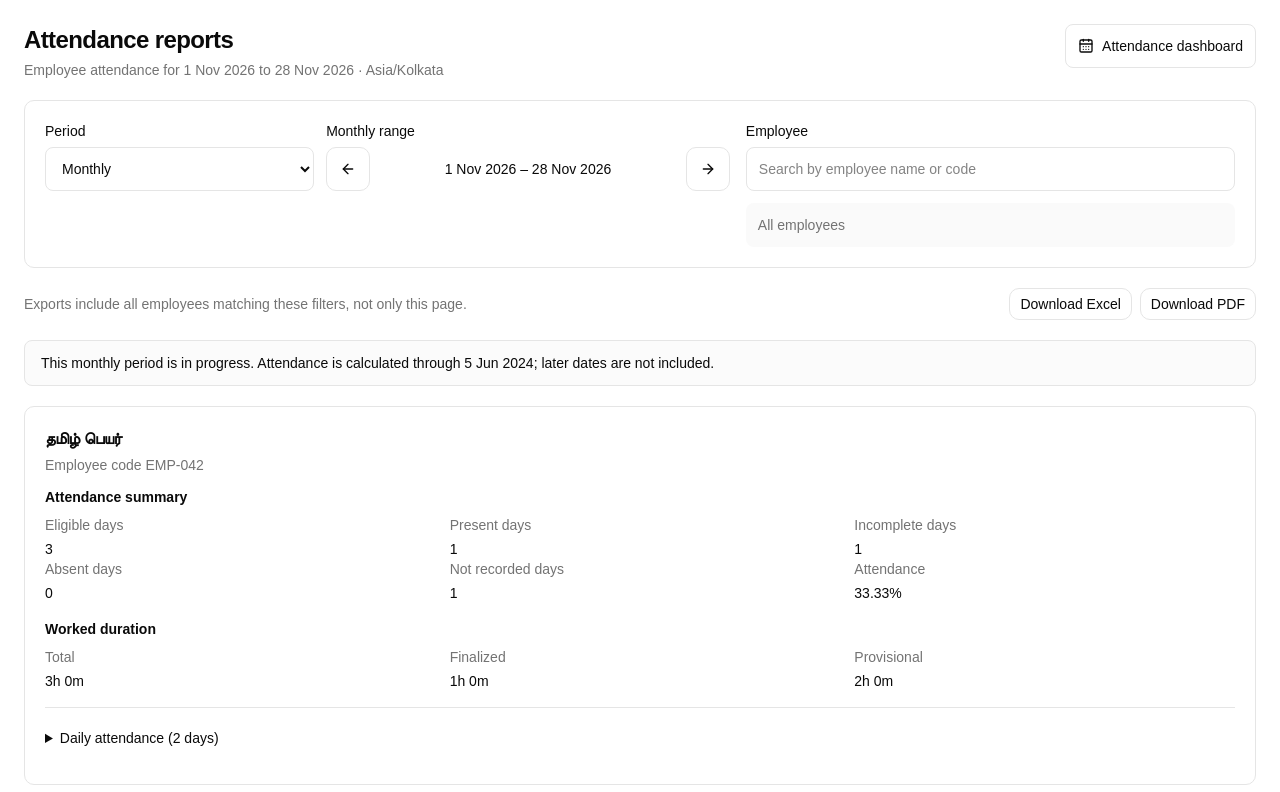
Test: attendance report page › reopens after Escape by click or ArrowDown and keeps search text for selection
This screenshot has width=1280, height=792.
Focus the dropdown named "Search employees" at point(990, 169), box [746,147,1235,191]
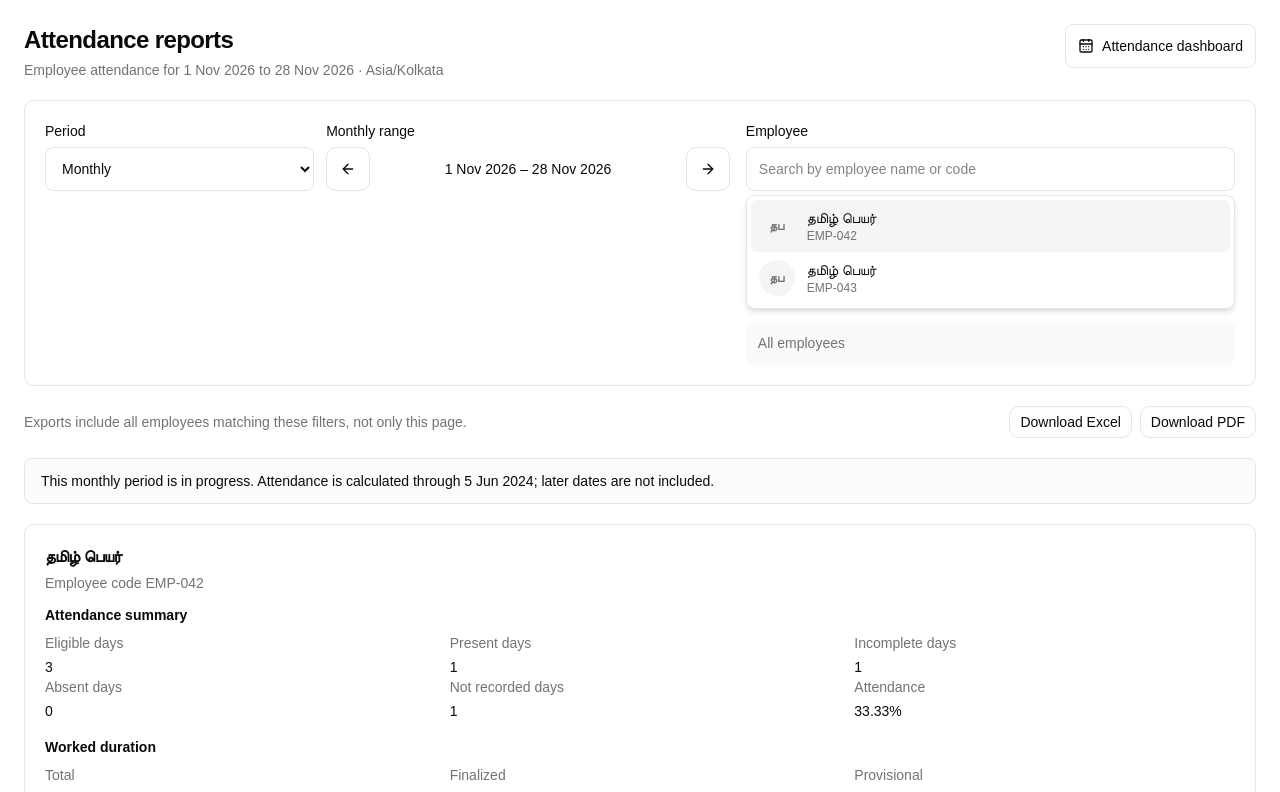
Expected: the number of options is 2, [751,200,1230,252]; [759,260,876,296]
Type "Tamil search" into the dropdown named "Search employees" at point(990, 169), box [746,147,1235,191]
Press Escape in the dropdown named "Search employees", box [746,147,1235,191]
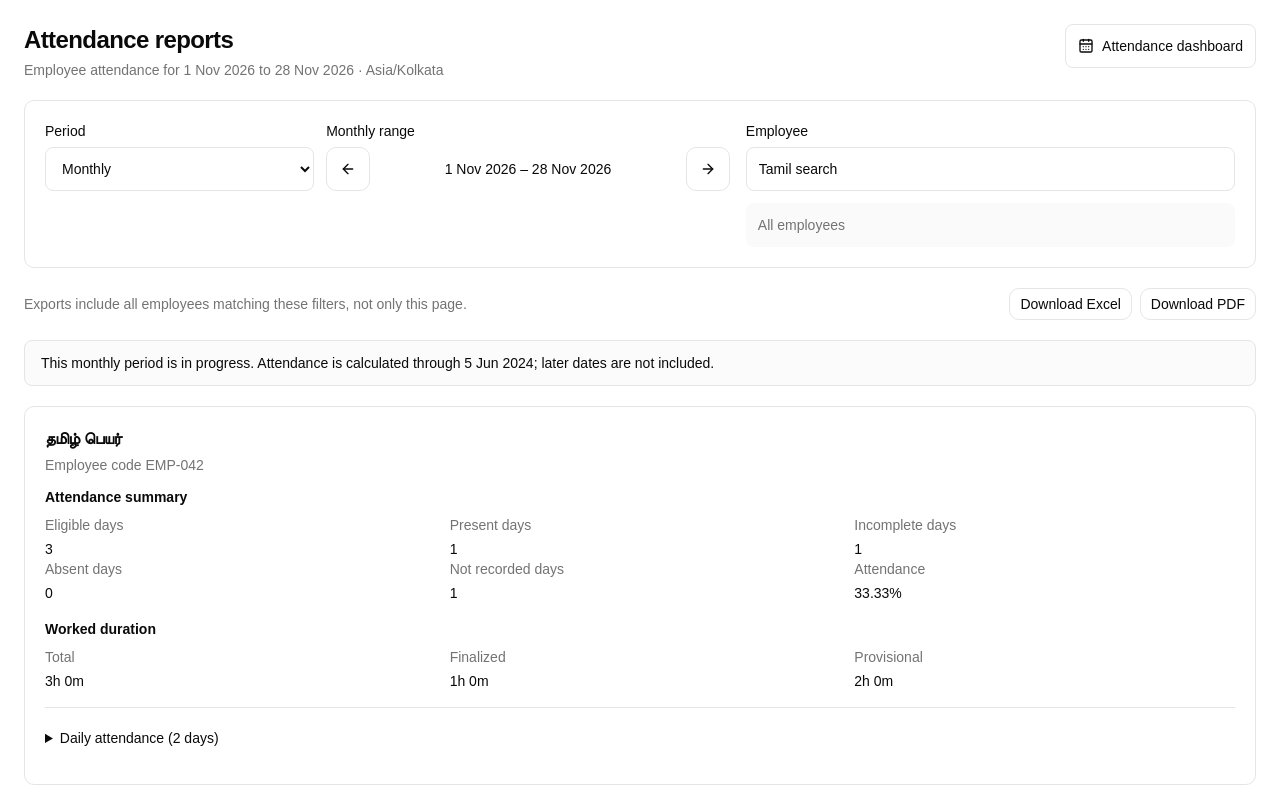
Expected: the list is gone
Click the dropdown named "Search employees" at point(990, 169), box [746,147,1235,191]
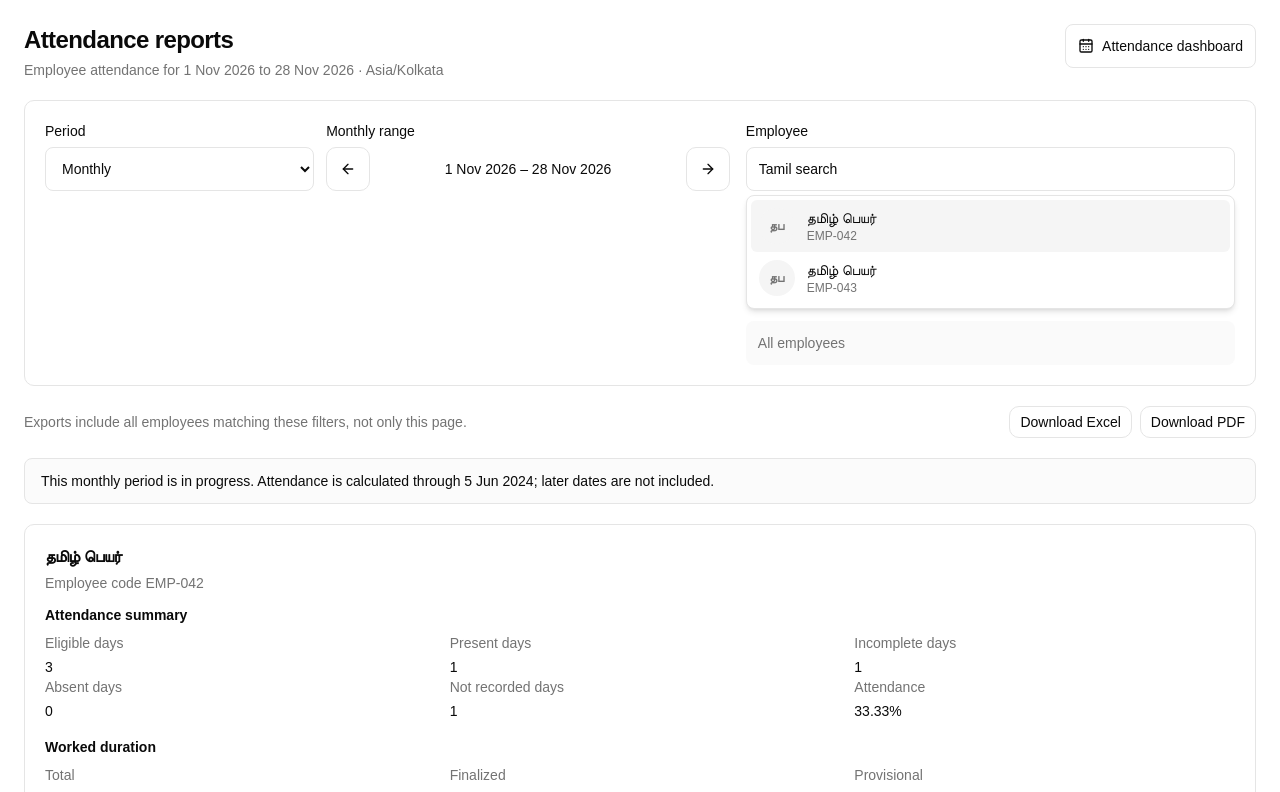
Expected: the list is shown, [747,196,1234,308]
Press Escape in the dropdown named "Search employees", box [746,147,1235,191]
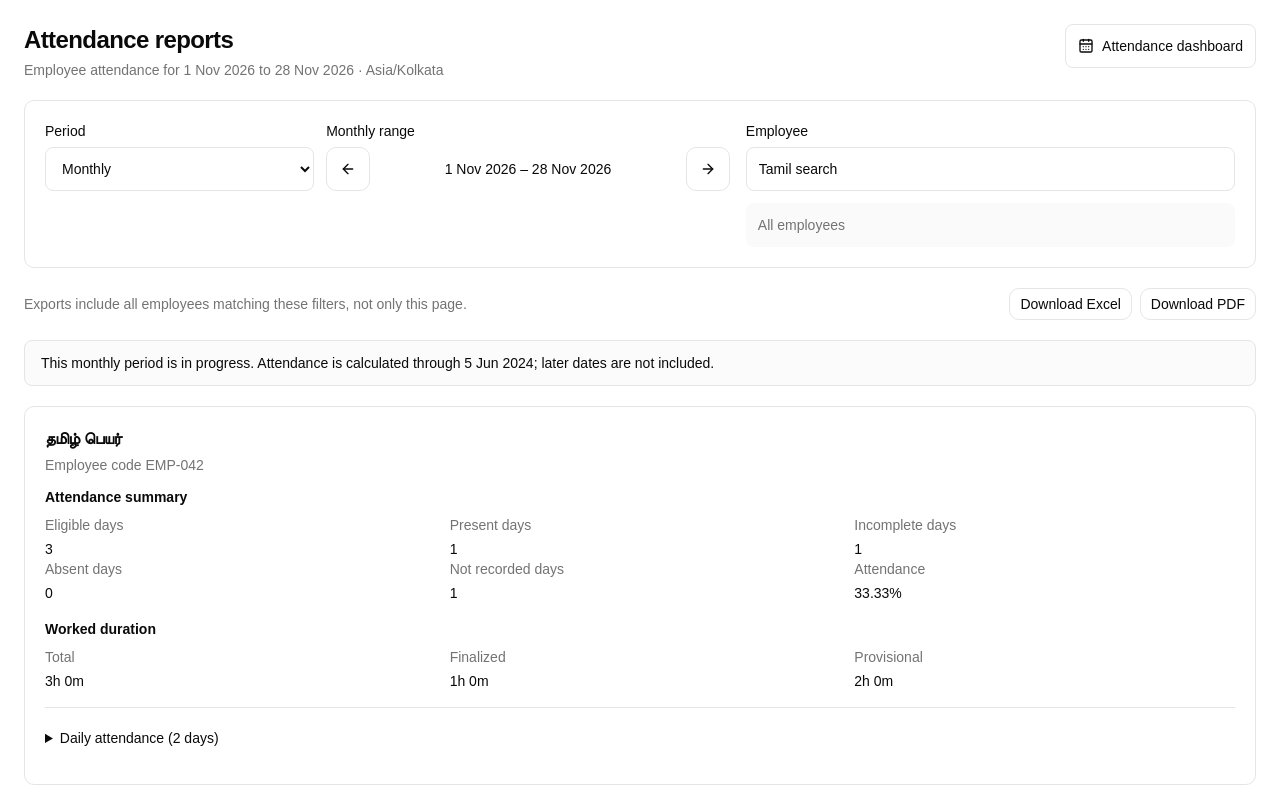
Press ArrowDown in the dropdown named "Search employees", box [746,147,1235,191]
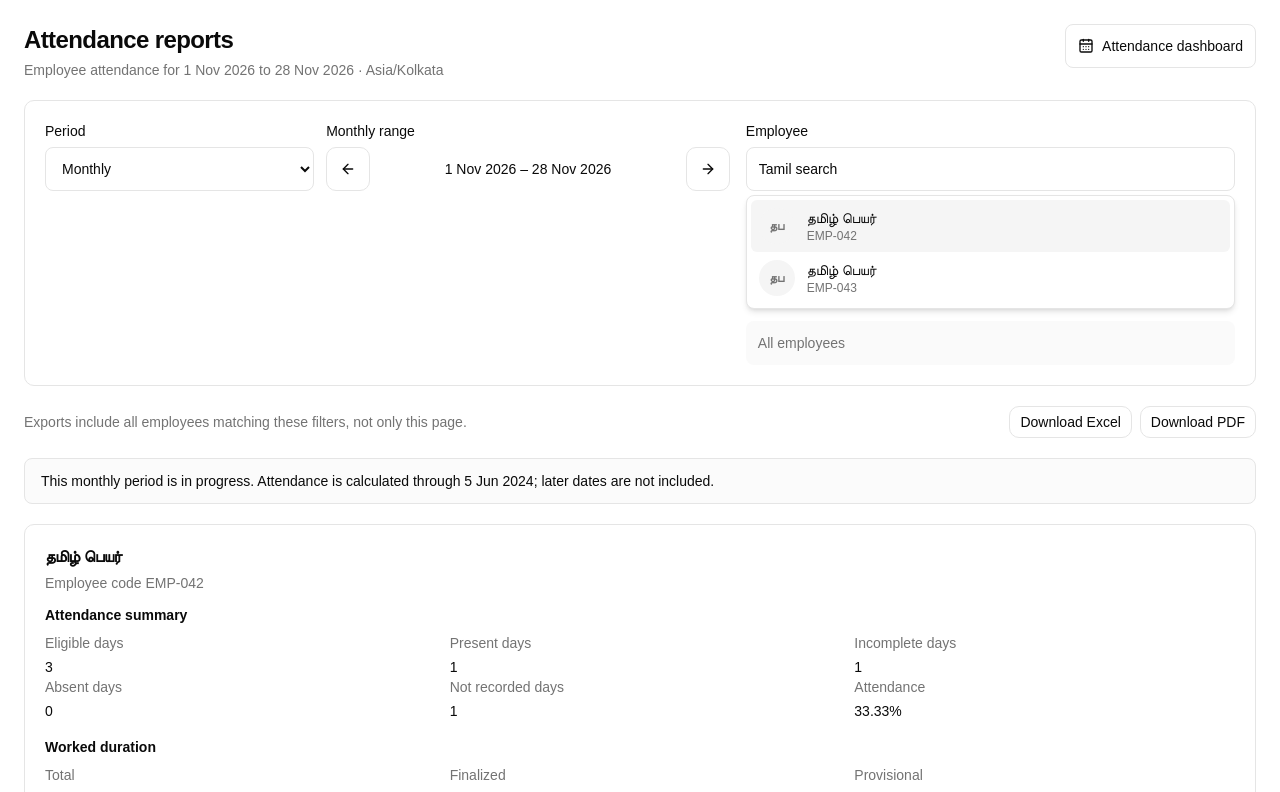
Expected: the list is shown, [747,196,1234,308]
Press Enter in the dropdown named "Search employees", box [746,147,1235,191]
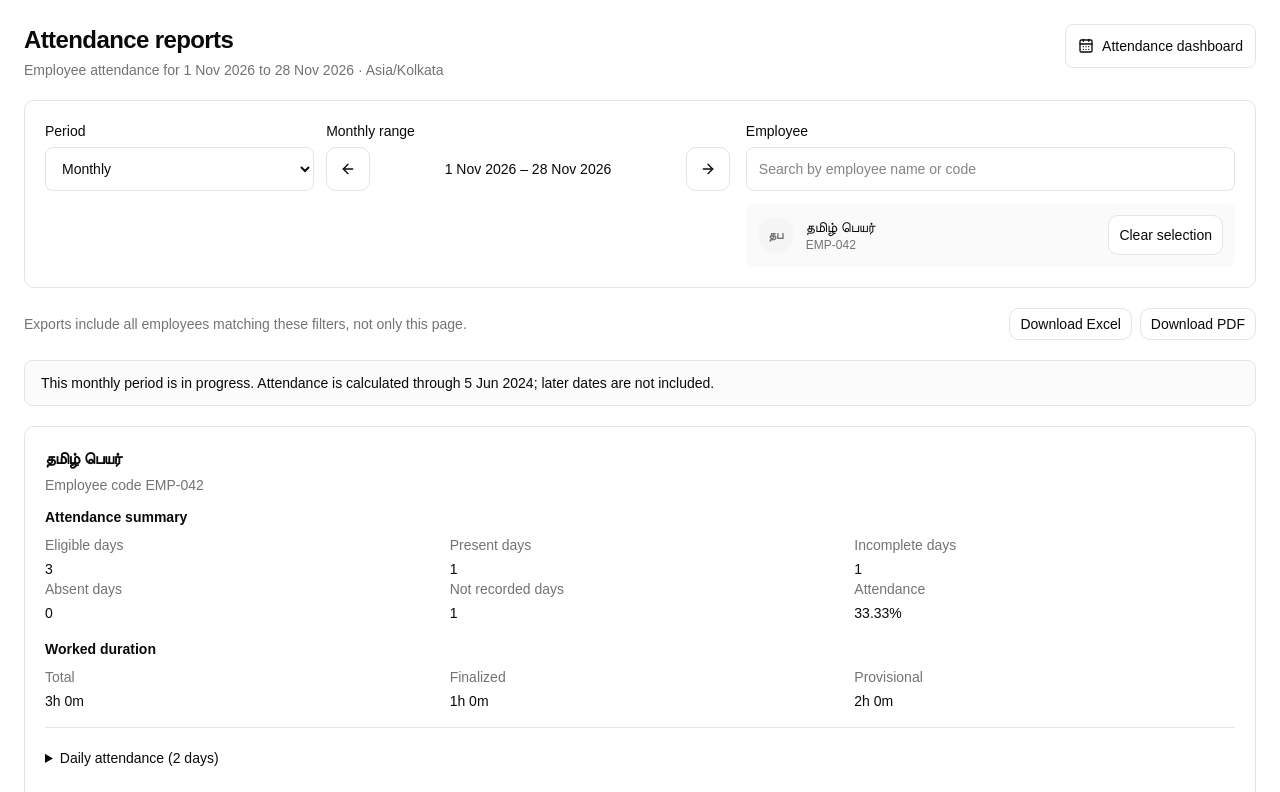
Expected: the button "Clear selection" is shown, [1108,215,1223,255]
